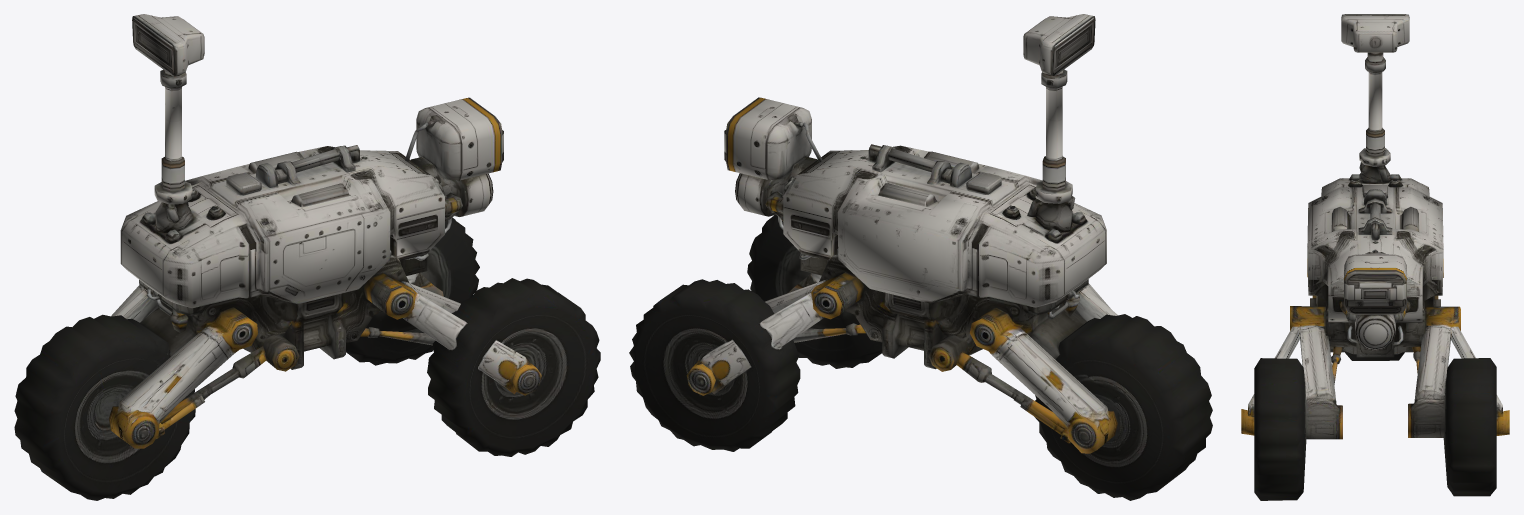
3 renders of one model, left to right at view 1: azimuth 30°, elevation 25°; view 2: azimuth 150°, elevation 25°; view 3: azimuth 270°, elevation 25°, orthographic. The views are drawn at different scales.
Parts seen in each view (by area): view 1: tripo_node_9ea001ae-8b79-41ba-92c3-70ff797b40e4; view 2: tripo_node_9ea001ae-8b79-41ba-92c3-70ff797b40e4; view 3: tripo_node_9ea001ae-8b79-41ba-92c3-70ff797b40e4.
Part boxes in pixels (x1,y1,x2,y2): tripo_node_9ea001ae-8b79-41ba-92c3-70ff797b40e4: (14, 14, 600, 500); tripo_node_9ea001ae-8b79-41ba-92c3-70ff797b40e4: (629, 14, 1212, 500); tripo_node_9ea001ae-8b79-41ba-92c3-70ff797b40e4: (1241, 14, 1509, 500).
Size of the model in its own units: 0.998 by 0.8496 by 0.5723.
1 material, 1 textured.
